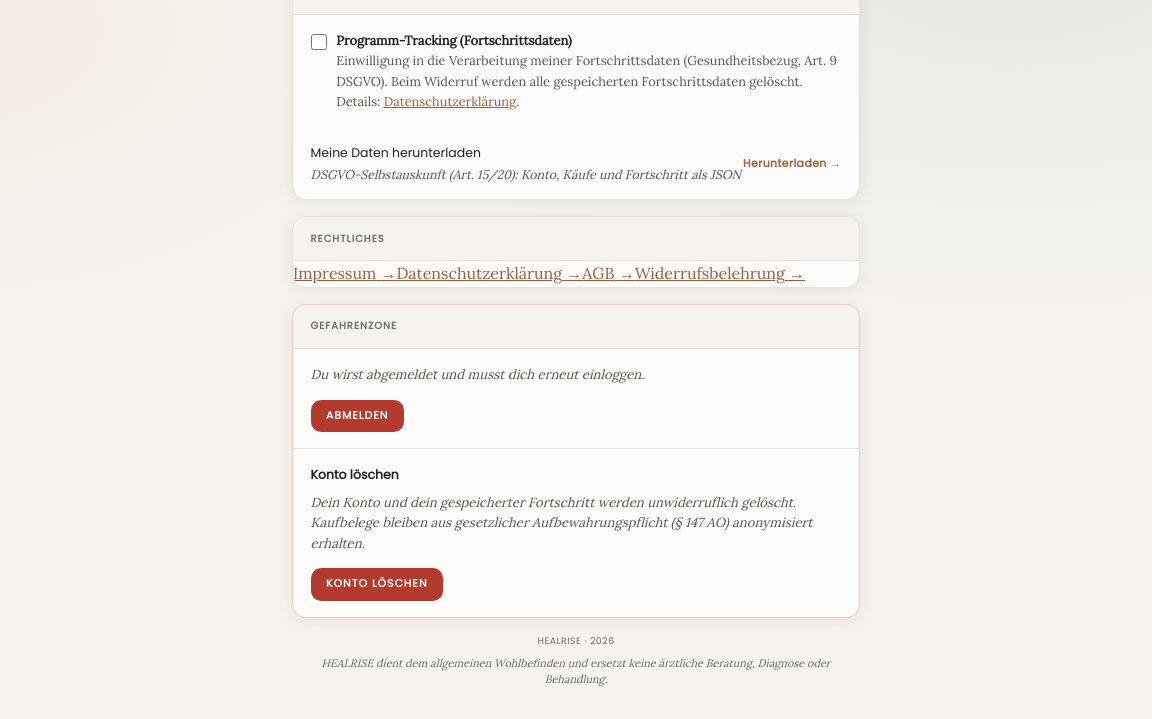
it: Account – Konto löschen (Gefahrenzone) › Fehler: bleibt eingeloggt (kein Logout, keine Navigation) und zeigt Fehlermeldung
The width and height of the screenshot is (1152, 719).
(page scrolled)
Click the button "Konto löschen".
click(377, 584)  # box [311,568,443,601]
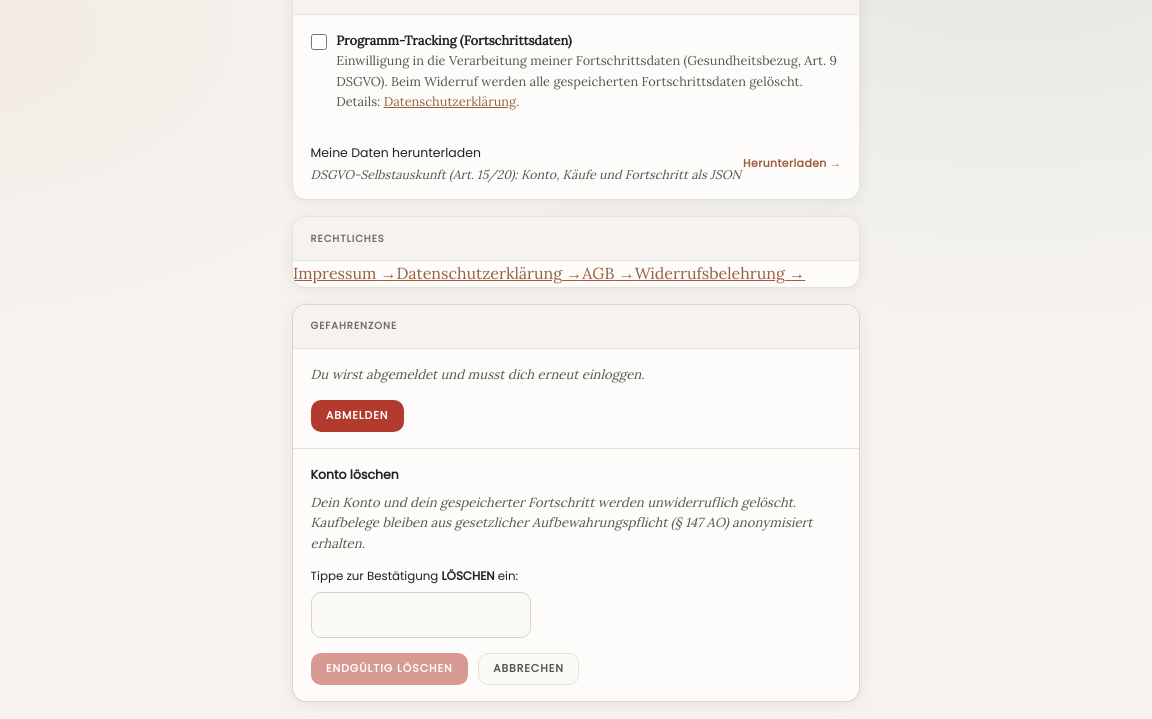
Type "LÖSCHEN" into the field labelled "Tippe zur Bestätigung LÖSCHEN ein:".
click(421, 615); type("LÖSCHEN")  # box [311,592,531,638]
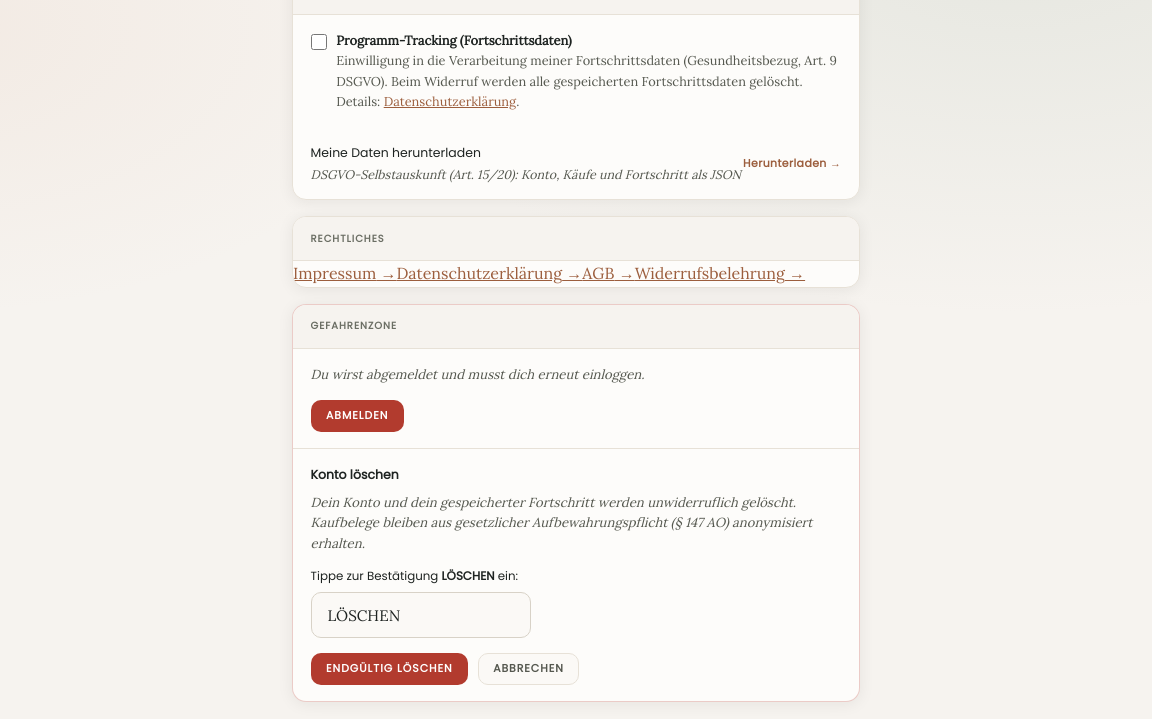
Click the button "Endgültig löschen".
click(389, 669)  # box [311,653,468,685]
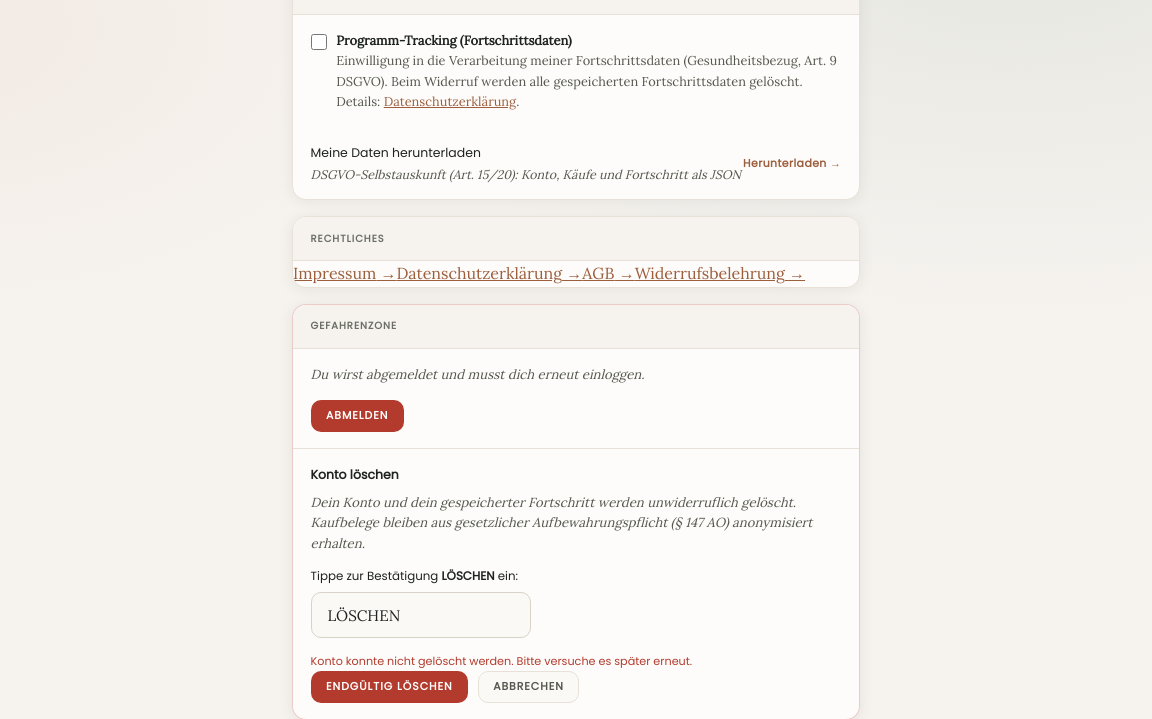
Now the text "Konto konnte nicht gelöscht werden. Bitte versuche es später erneut." is shown, box [311,653,692,669]
